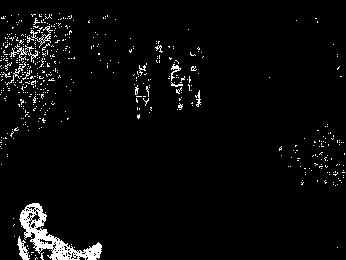person: (131, 63, 152, 121), (190, 63, 209, 109), (171, 59, 187, 113)
